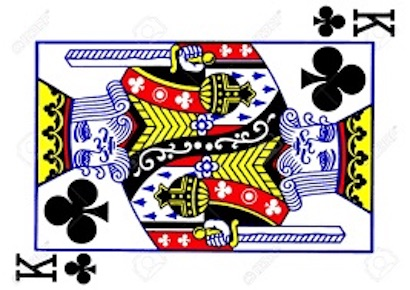KingOfClubs: (2, 2, 410, 289)
